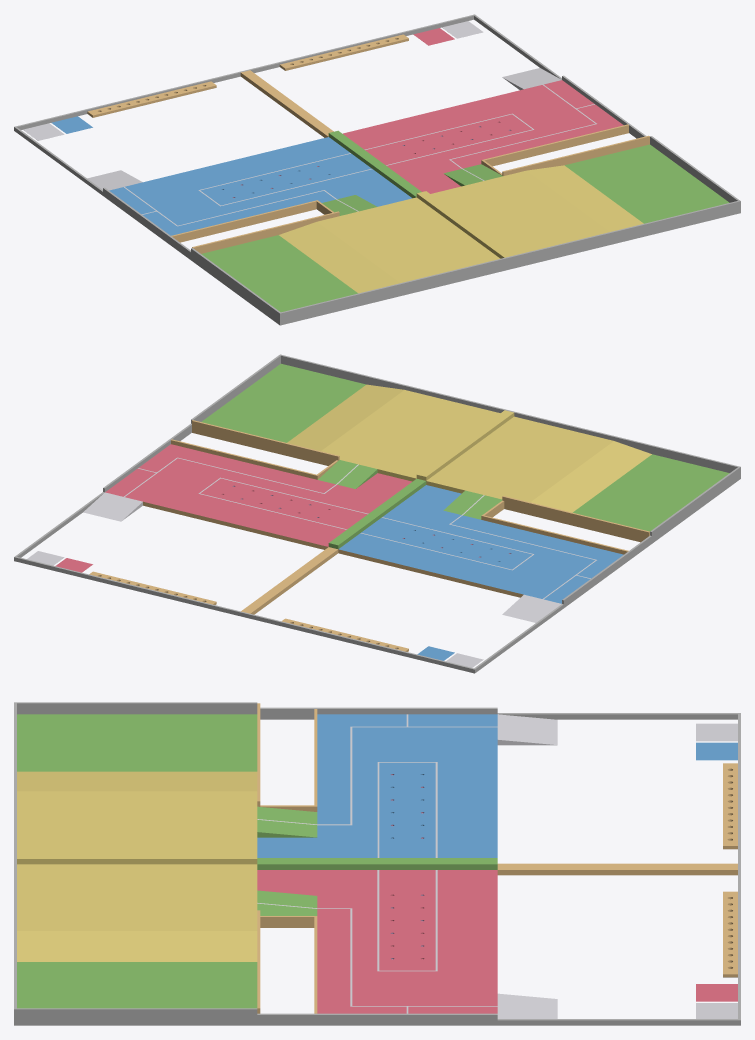
Rendered from lapangan.dae.
3 views of the same model, one above another, from view 1: azimuth 30°, elevation 25°; view 2: azimuth 150°, elevation 25°; view 3: azimuth 270°, elevation 25° (orthographic). The views are drawn at different scales.
Visible parts, largest first — view 1: Body1_019, Body1_012, Body2, Body1_009, Body1_053, Body1_013, Body1_027, Body1_040, Body3_001, Body1_054; view 2: Body1_019, Body1_012, Body2, Body1_009, Body1_053, Body1_013, Body3_001, Body1_054, Body1_040, Body1_027; view 3: Body1_019, Body1_012, Body2, Body1_053, Body1_013, Body1_009, Body1_054, Body3_001, Body1_027, Body1_040, Body1_016, Body2_009 (+2 smaller).
Part boxes in pixels (<box>): Body1_019: <box>201,144,729,312</box>; Body1_012: <box>109,80,623,235</box>; Body2: <box>14,14,740,325</box>; Body1_009: <box>171,124,649,253</box>; Body1_053: <box>87,68,561,190</box>; Body1_013: <box>240,70,333,137</box>; Body1_027: <box>87,81,216,117</box>; Body1_040: <box>279,34,408,70</box>; Body3_001: <box>443,164,502,186</box>; Body1_054: <box>322,195,377,215</box>; Body1_019: <box>201,363,729,531</box>; Body1_012: <box>105,444,623,603</box>; Body2: <box>14,354,740,673</box>; Body1_009: <box>171,420,649,554</box>; Body1_053: <box>83,492,561,622</box>; Body1_013: <box>241,547,338,614</box>; Body3_001: <box>318,460,377,488</box>; Body1_054: <box>443,490,502,519</box>; Body1_040: <box>89,571,216,604</box>; Body1_027: <box>282,618,408,651</box>; Body1_019: <box>17,714,257,1008</box>; Body1_012: <box>257,714,497,1013</box>; Body2: <box>14,702,740,1025</box>; Body1_053: <box>497,714,557,1018</box>; Body1_013: <box>497,863,737,875</box>; Body1_009: <box>257,703,317,1013</box>; Body1_054: <box>257,806,317,837</box>; Body3_001: <box>257,890,317,915</box>; Body1_027: <box>723,763,737,849</box>; Body1_040: <box>723,891,737,977</box>; Body1_016: <box>696,723,737,741</box>; Body2_009: <box>696,742,737,760</box>.
Size of the model in its own units: 12.1 by 12.1 by 0.3.
